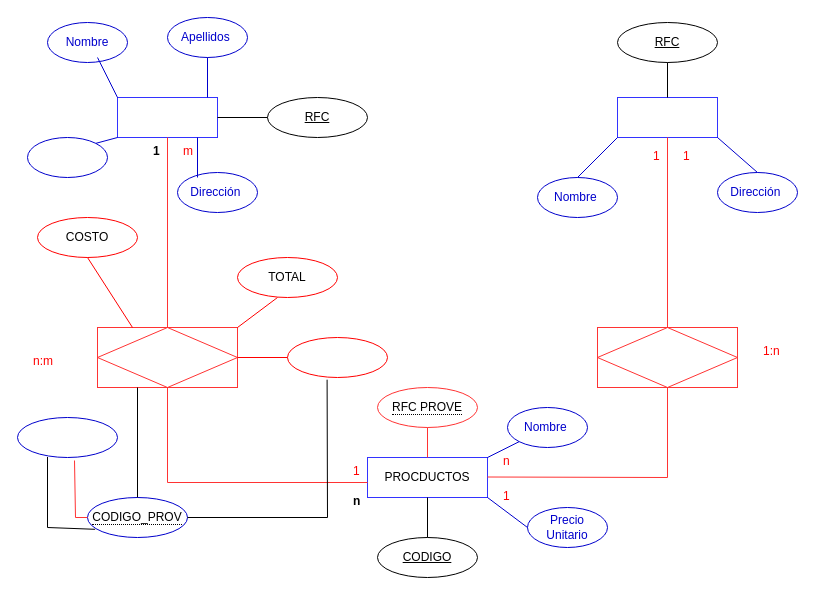
The diagram is 815 pixels wide and 595 high, and some of its shapes have lost their labels. Each missing label, with the box of its shape:
CLIENTES: (116, 96, 218, 138)
COMPRA: (96, 326, 238, 388)
FECHA: (286, 336, 388, 378)
Fecha Nacimiento: (26, 136, 108, 178)
PROVEDORES: (616, 96, 718, 138)
RFC_CLIENT: (16, 416, 118, 458)
SUMINISTRO: (596, 326, 738, 388)
